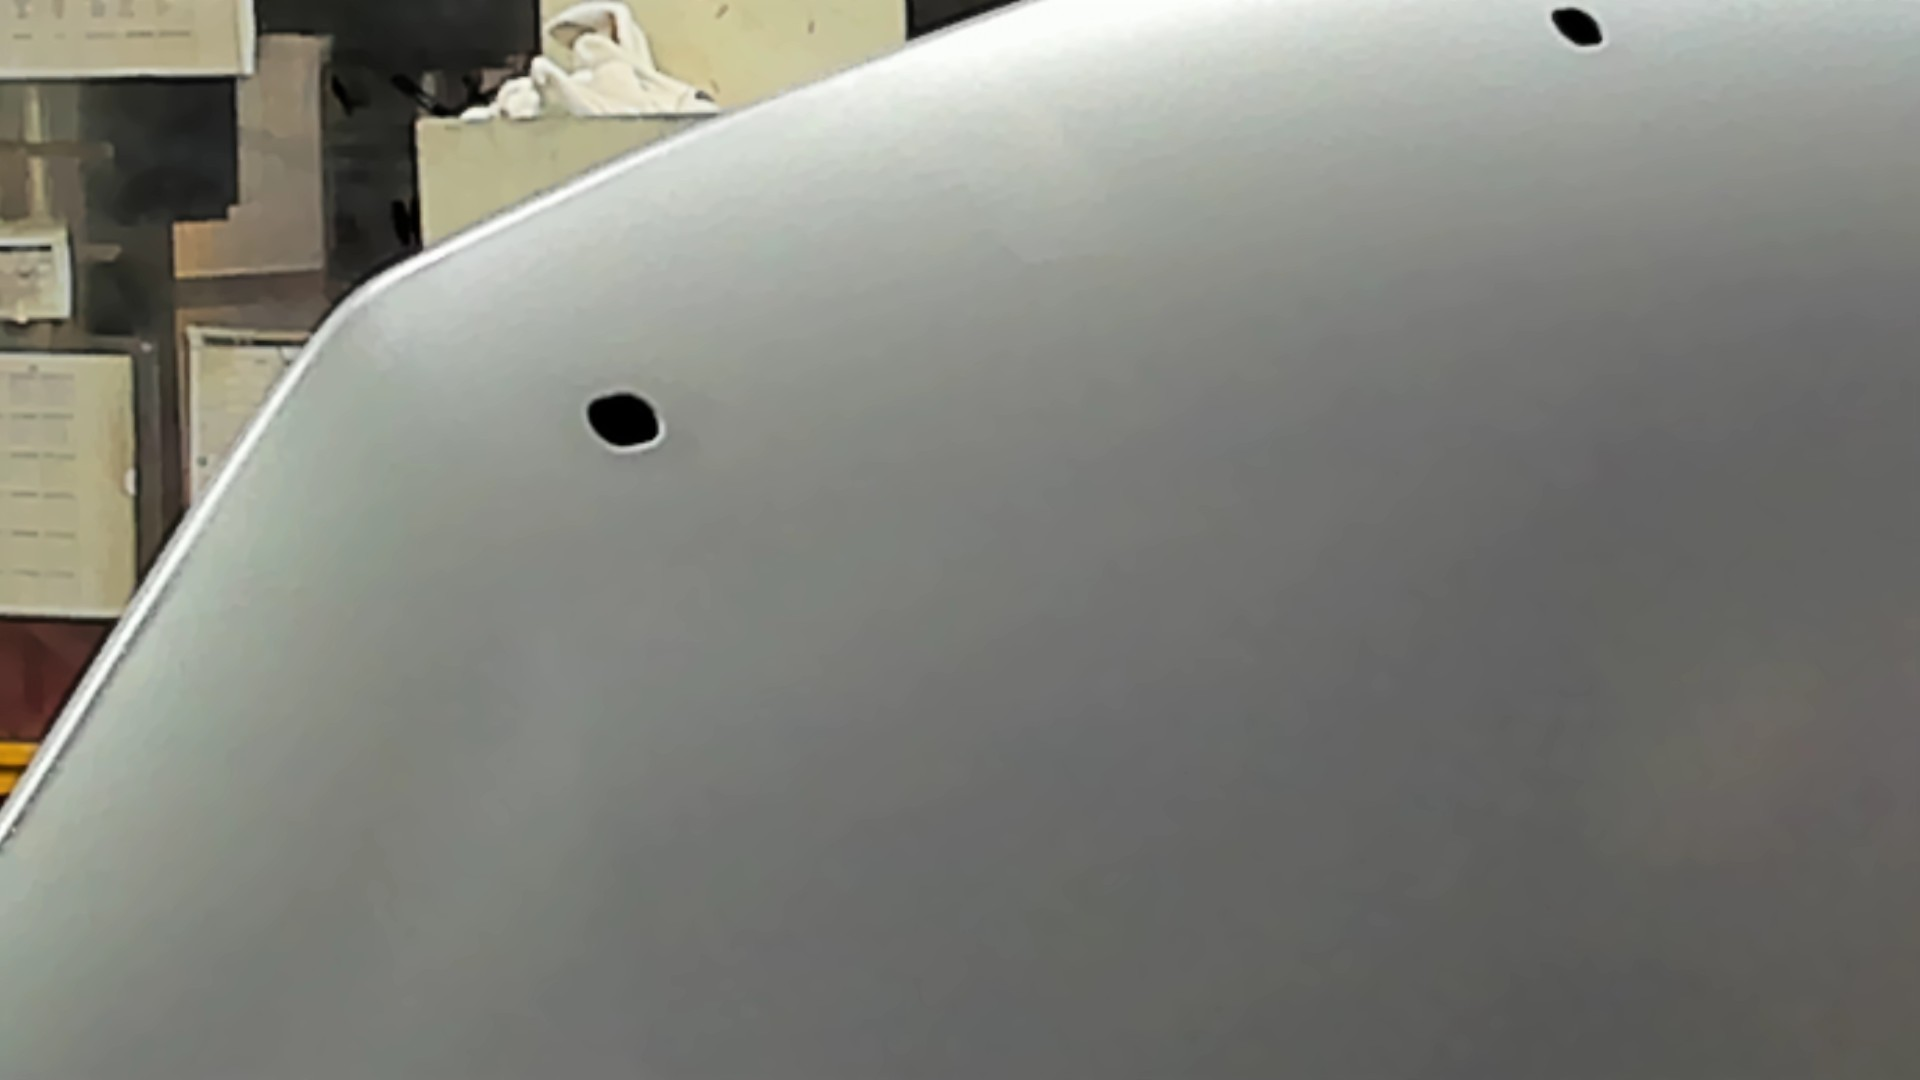amorfo: (578, 382, 671, 456), (1545, 1, 1613, 55)
